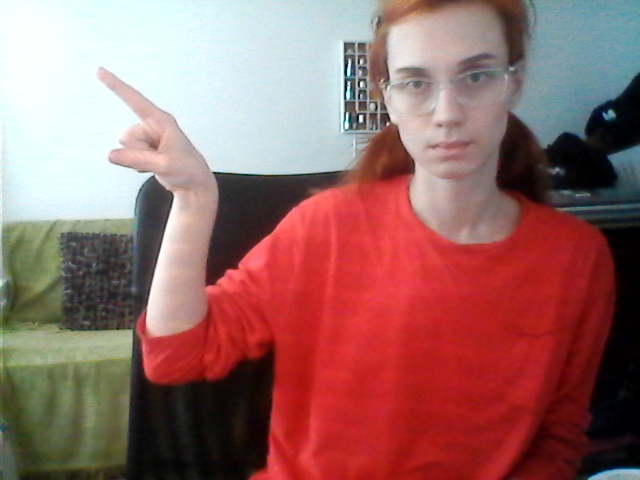on: (88, 61, 257, 380)
